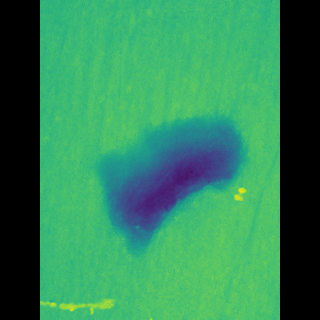Loch: (111, 115, 226, 263), (69, 286, 128, 316)
